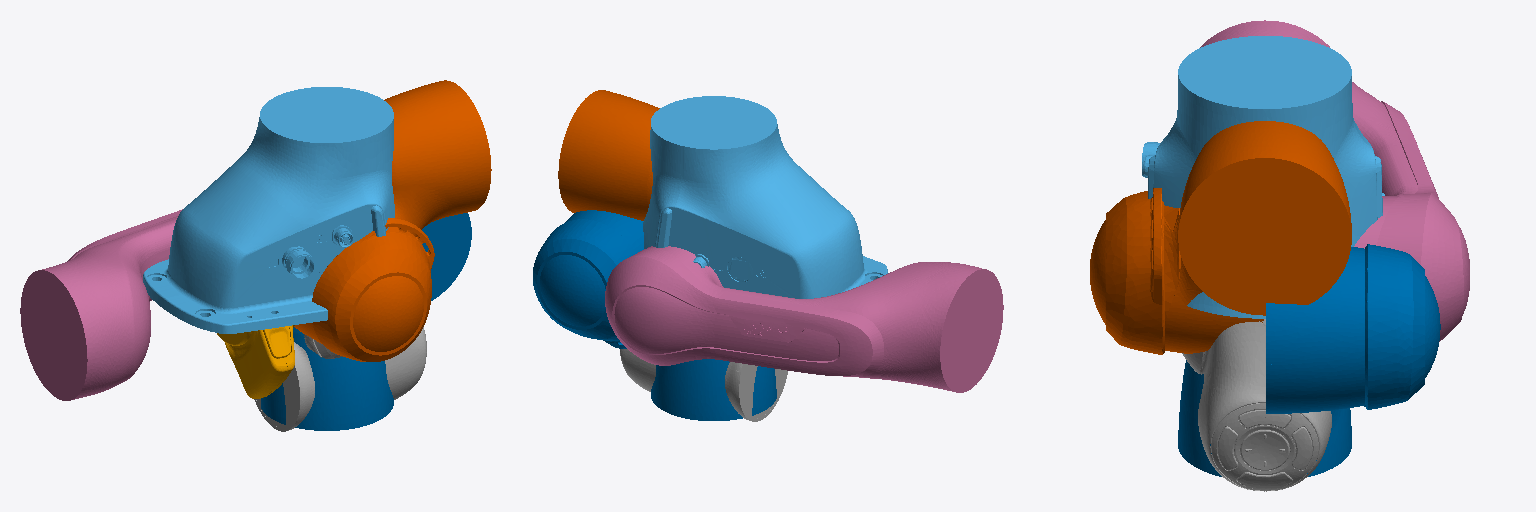
robot.urdf — panda:
<?xml version="1.0" encoding="utf-8"?>
<!-- =================================================================================== -->
<!-- |    This document was autogenerated by xacro from panda_arm.urdf.xacro           | -->
<!-- |    EDITING THIS FILE BY HAND IS NOT RECOMMENDED                                 | -->
<!-- =================================================================================== -->
<robot name="panda">
  <link name="world"/>
  <joint name="arm_to_world_fixed" type="fixed">
    <parent link="world"/>
    <child link="panda_link0"/>
    <origin xyz="0 -0.0 0" rpy="0  0 0" />
  </joint>
  <link name="panda_link0">
  <inertial>
        <!-- Estimated guesses from CAD -->
        <origin rpy="0 0 0" xyz="-0.041018 -0.00014 0.049974"/>
        <mass value="0.629769"/>
        <inertia ixx="0.00315" ixy="8.2904E-07" ixz="0.00015"
                               iyy="0.00388"    iyz="8.2299E-06"
                                                izz="0.004285" />
      </inertial>
    <visual>
      <geometry>
        <mesh filename="meshes/collision/link0.stl"/>
      </geometry>
    </visual>
    <collision>
      <origin rpy="0 1.57079632679 0" xyz="-0.075 0 0.06"/>
      <geometry>
        <cylinder length="0.03" radius="0.09"/>
      </geometry>
    </collision>
    <collision>
      <origin rpy="0 0 0" xyz="-0.06 0 0.06"/>
      <geometry>
        <sphere radius="0.09"/>
      </geometry>
    </collision>
    <collision>
      <origin rpy="0 0 0" xyz="-0.09 0 0.06"/>
      <geometry>
        <sphere radius="0.09"/>
      </geometry>
    </collision>
  </link>
  <link name="panda_link1">
  <inertial>
        <origin rpy="0 0 0" xyz="0.003875 0.002081 -0.04762"/>
        <mass value="4.970684"/>
        <inertia ixx="0.70337" ixy="-0.00013900" ixz="0.0067720"
                               iyy="0.70661"     iyz="0.019169"
                                                 izz="0.0091170" />
    </inertial>
    <visual>
      <geometry>
        <mesh filename="meshes/collision/link1.stl"/>
      </geometry>
    </visual>
    <collision>
      <origin rpy="0 0 0" xyz="0 0 -0.1915"/>
      <geometry>
        <cylinder length="0.2830" radius="0.09"/>
      </geometry>
    </collision>
    <collision>
      <origin rpy="0 0 0" xyz="0 0 -0.333"/>
      <geometry>
        <sphere radius="0.09"/>
      </geometry>
    </collision>
    <collision>
      <origin rpy="0 0 0" xyz="0 0 -0.05"/>
      <geometry>
        <sphere radius="0.09"/>
      </geometry>
    </collision>
  </link>
  <joint name="panda_joint1" type="revolute">
    <origin rpy="0 0 0" xyz="0 0 0.333"/>
    <parent link="panda_link0"/>
    <child link="panda_link1"/>
    <axis xyz="0 0 1"/>
    <limit effort="87" lower="-2.8973" upper="2.8973" velocity="2.1750"/>
  </joint>
  <link name="panda_link2">
    <inertial>
        <origin rpy="0 0 0" xyz=" -0.003141 -0.02872  0.003495"/>
        <mass value="0.646926"/>
        <inertia ixx="0.0079620" ixy="-3.9250e-3" ixz="1.0254e-02"
                                 iyy="2.8110e-02" iyz="7.0400e-04"
                                                  izz="2.5995e-02" />
    </inertial>
    <visual>
      <geometry>
        <mesh filename="meshes/collision/link2.stl"/>
      </geometry>
    </visual>
    <collision>
      <origin rpy="0 0 0" xyz="0 0 0"/>
      <geometry>
        <cylinder length="0.12" radius="0.09"/>
      </geometry>
    </collision>
    <collision>
      <origin rpy="0 0 0" xyz="0 0 -0.06"/>
      <geometry>
        <sphere radius="0.09"/>
      </geometry>
    </collision>
    <collision>
      <origin rpy="0 0 0" xyz="0 0 0.06"/>
      <geometry>
        <sphere radius="0.09"/>
      </geometry>
    </collision>
  </link>
  <joint name="panda_joint2" type="revolute">
    <origin rpy="-1.57079632679 0 0" xyz="0 0 0"/>
    <parent link="panda_link1"/>
    <child link="panda_link2"/>
    <axis xyz="0 0 1"/>
    <limit effort="87" lower="-1.7628" upper="1.7628" velocity="2.1750"/>
  </joint>
  <link name="panda_link3">
  <inertial>
        <origin rpy="0 0 0" xyz="2.7518e-02 3.9252e-02 -6.6502e-02"/>
        <mass value="3.228604"/>
        <inertia ixx="3.7242e-02" ixy="-4.7610e-03" ixz="-1.1396e-02"
                                  iyy="3.6155e-02"  iyz="-1.2805e-02"
                                                    izz="1.0830e-02" />
    </inertial>
    <visual>
      <geometry>
        <mesh filename="meshes/collision/link3.stl"/>
      </geometry>
    </visual>
    <collision>
      <origin rpy="0 0 0" xyz="0 0 -0.145"/>
      <geometry>
        <cylinder length="0.15" radius="0.09"/>
      </geometry>
    </collision>
    <collision>
      <origin rpy="0 0 0" xyz="0 0 -0.22"/>
      <geometry>
        <sphere radius="0.09"/>
      </geometry>
    </collision>
    <collision>
      <origin rpy="0 0 0" xyz="0 0 -0.07"/>
      <geometry>
        <sphere radius="0.09"/>
      </geometry>
    </collision>
  </link>
  <joint name="panda_joint3" type="revolute">
    <origin rpy="1.57079632679 0 0" xyz="0 -0.316 0"/>
    <parent link="panda_link2"/>
    <child link="panda_link3"/>
    <axis xyz="0 0 1"/>
    <limit effort="87" lower="-2.8973" upper="2.8973" velocity="2.1750"/>
  </joint>
  <link name="panda_link4">
  <inertial>
        <origin rpy="0 0 0" xyz="-5.317e-02 1.04419e-01 2.7454e-02"/>
        <mass value="3.587895"/>
        <inertia ixx="2.5853e-02" ixy="7.7960e-03" ixz="-1.3320e-03"
                                  iyy="1.9552e-02" iyz="8.6410e-03"
                                                   izz="2.8323e-02" />
    </inertial>
    <visual>
      <geometry>
        <mesh filename="meshes/collision/link4.stl"/>
      </geometry>
    </visual>
    <collision>
      <origin rpy="0 0 0" xyz="0 0 0"/>
      <geometry>
        <cylinder length="0.12" radius="0.09"/>
      </geometry>
    </collision>
    <collision>
      <origin rpy="0 0 0" xyz="0 0 0.06"/>
      <geometry>
        <sphere radius="0.09"/>
      </geometry>
    </collision>
    <collision>
      <origin rpy="0 0 0" xyz="0 0 -0.06"/>
      <geometry>
        <sphere radius="0.09"/>
      </geometry>
    </collision>
  </link>
  <joint name="panda_joint4" type="revolute">
    <origin rpy="1.57079632679 0 0" xyz="0.0825 0 0"/>
    <parent link="panda_link3"/>
    <child link="panda_link4"/>
    <axis xyz="0 0 1"/>
    <limit effort="87" lower="-3.0718" upper="-0.0698" velocity="2.1750"/>
  </joint>
  <link name="panda_link5">
    <inertial>
        <origin rpy="0 0 0" xyz="-1.1953e-02 4.1065e-02 -3.8437e-02"/>
        <mass value="1.225946"/>
        <inertia ixx="3.5549e-02" ixy="-2.1170e-03" ixz="-4.0370e-03"
                                  iyy="2.9474e-02"  iyz="2.2900e-04"
                                                    izz="8.6270e-03" />
      </inertial>
    <visual>
      <geometry>
        <mesh filename="meshes/collision/link5.stl"/>
      </geometry>
    </visual>
    <collision>
      <origin rpy="0 0 0" xyz="0 0 -0.26"/>
      <geometry>
        <cylinder length="0.1" radius="0.09"/>
      </geometry>
    </collision>
    <collision>
      <origin rpy="0 0 0" xyz="0 0 -0.31"/>
      <geometry>
        <sphere radius="0.09"/>
      </geometry>
    </collision>
    <collision>
      <origin rpy="0 0 0" xyz="0 0 -0.21"/>
      <geometry>
        <sphere radius="0.09"/>
      </geometry>
    </collision>
    <collision>
      <origin rpy="0 0 0" xyz="0 0.08 -0.13"/>
      <geometry>
        <cylinder length="0.14" radius="0.055"/>
      </geometry>
    </collision>
    <collision>
      <origin rpy="0 0 0" xyz="0 0.08 -0.06"/>
      <geometry>
        <sphere radius="0.055"/>
      </geometry>
    </collision>
    <collision>
      <origin rpy="0 0 0" xyz="0 0.08 -0.20"/>
      <geometry>
        <sphere radius="0.055"/>
      </geometry>
    </collision>
  </link>
  <joint name="panda_joint5" type="revolute">
    <origin rpy="-1.57079632679 0 0" xyz="-0.0825 0.384 0"/>
    <parent link="panda_link4"/>
    <child link="panda_link5"/>
    <axis xyz="0 0 1"/>
    <limit effort="12" lower="-2.8973" upper="2.8973" velocity="2.6100"/>
  </joint>
  <link name="panda_link6">
  <inertial>
        <origin rpy="0 0 0" xyz="6.0149e-02 -1.4117e-02 -1.0517e-02"/>
        <mass value="1.666555"/>
        <inertia ixx="1.9640e-03" ixy="1.0900e-04" ixz="-1.1580e-03"
                                  iyy="4.3540e-03" iyz="3.4100e-04"
                                                   izz="5.4330e-03" />
    </inertial>
    <visual>
      <geometry>
        <mesh filename="meshes/collision/link6.stl"/>
      </geometry>
    </visual>
    <collision>
      <origin rpy="0 0 0" xyz="0 0 -0.03"/>
      <geometry>
        <cylinder length="0.08" radius="0.08"/>
      </geometry>
    </collision>
    <collision>
      <origin rpy="0 0 0" xyz="0 0 0.01"/>
      <geometry>
        <sphere radius="0.08"/>
      </geometry>
    </collision>
    <collision>
      <origin rpy="0 0 0" xyz="0 0 -0.07"/>
      <geometry>
        <sphere radius="0.08"/>
      </geometry>
    </collision>
  </link>
  <joint name="panda_joint6" type="revolute">
    <origin rpy="1.57079632679 0 0" xyz="0 0 0"/>
    <parent link="panda_link5"/>
    <child link="panda_link6"/>
    <axis xyz="0 0 1"/>
    <limit effort="12" lower="-0.0175" upper="3.7525" velocity="2.6100"/>
  </joint>
  <link name="panda_link7">
  <inertial>
        <origin rpy="0 0 0" xyz="1.0517e-02 -4.252e-03 6.1597e-02"/>
        <mass value="7.35522e-01"/>
        <inertia ixx="1.2516e-02" ixy="-4.2800e-04" ixz="-1.1960e-03"
                                  iyy="1.0027e-02"  iyz="-7.4100e-04"
                                                    izz="4.8150e-03"/>
    </inertial>
    <visual>
      <geometry>
        <mesh filename="meshes/collision/link7.stl"/>
      </geometry>
    </visual>
    <collision>
      <origin rpy="0 0 0" xyz="0 0 0.01"/>
      <geometry>
        <cylinder length="0.14" radius="0.07"/>
      </geometry>
    </collision>
    <collision>
      <origin rpy="0 0 0" xyz="0 0 0.08"/>
      <geometry>
        <sphere radius="0.07"/>
      </geometry>
    </collision>
    <collision>
      <origin rpy="0 0 0" xyz="0 0 -0.06"/>
      <geometry>
        <sphere radius="0.07"/>
      </geometry>
    </collision>
  </link>
  <joint name="panda_joint7" type="revolute">
    <origin rpy="1.57079632679 0 0" xyz="0.088 0 0"/>
    <parent link="panda_link6"/>
    <child link="panda_link7"/>
    <axis xyz="0 0 1"/>
    <limit effort="12" lower="-2.8973" upper="2.8973" velocity="2.6100"/>
  </joint>
  <link name="panda_link8">
    <collision>
      <origin rpy="3.14159265359 1.57079632679 1.57079632679" xyz="0.0424 0.0424 -0.0250"/>
      <geometry>
        <cylinder length="0.01" radius="0.06"/>
      </geometry>
    </collision>
    <collision>
      <origin rpy="0 0 0" xyz="0.0424 0.0424 -0.02"/>
      <geometry>
        <sphere radius="0.06"/>
      </geometry>
    </collision>
    <collision>
      <origin rpy="0 0 0" xyz="0.0424 0.0424 -0.03"/>
      <geometry>
        <sphere radius="0.06"/>
      </geometry>
    </collision>
  </link>
  <joint name="panda_joint8" type="fixed">
    <origin rpy="0 0 0" xyz="0 0 0.107"/>
    <parent link="panda_link7"/>
    <child link="panda_link8"/>
  </joint>
</robot>

--- What the picture shows (computed from the rendered views, not written in the file) ---
Views: 3 orthographic renders of the robot side by side, from view 1: azimuth 30°, elevation 25°; view 2: azimuth 150°, elevation 25°; view 3: azimuth 270°, elevation 25°.
Robot: panda — 10 links, 9 joints (7 revolute, 2 fixed); root link world; default pose: joints at zero except 1 at the middle of their limits (panda_joint4 = -1.57).
Links seen in each view (by area): view 1: panda_link0, panda_link4, panda_link5, panda_link3, panda_link6, panda_link7; view 2: panda_link5, panda_link0, panda_link3, panda_link4, panda_link6; view 3: panda_link4, panda_link3, panda_link0, panda_link6, panda_link5.
Boxes of the visible links, x1=… form: panda_link0: x1=143, y1=87, x2=394, y2=333; panda_link4: x1=294, y1=80, x2=491, y2=361; panda_link5: x1=20, y1=209, x2=182, y2=400; panda_link3: x1=261, y1=213, x2=471, y2=430; panda_link6: x1=254, y1=327, x2=426, y2=431; panda_link7: x1=217, y1=325, x2=294, y2=398; panda_link5: x1=605, y1=246, x2=1003, y2=392; panda_link0: x1=643, y1=96, x2=887, y2=298; panda_link3: x1=533, y1=210, x2=776, y2=420; panda_link4: x1=558, y1=90, x2=659, y2=220; panda_link6: x1=620, y1=349, x2=787, y2=421; panda_link4: x1=1090, y1=121, x2=1351, y2=354; panda_link3: x1=1178, y1=244, x2=1440, y2=476; panda_link0: x1=1142, y1=36, x2=1384, y2=318; panda_link6: x1=1182, y1=319, x2=1331, y2=491; panda_link5: x1=1200, y1=20, x2=1469, y2=341.
Bounding box of the posed robot: 396 × 241 × 271 m (x, y, z).
Meshes: 8 distinct files referenced, 6 mesh visuals loaded (6 binary STL); not drawn: 2 (reference not matched to a file when rendering).
